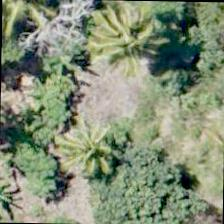Kelapa_Sawit: (41, 107, 132, 200), (72, 0, 164, 77)
